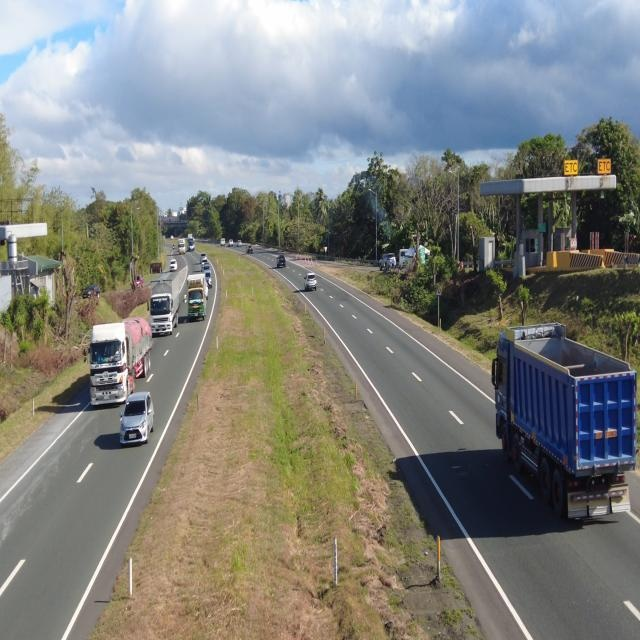Truck: (478, 312, 640, 542), (75, 316, 152, 399), (138, 269, 184, 340), (184, 272, 211, 324)
